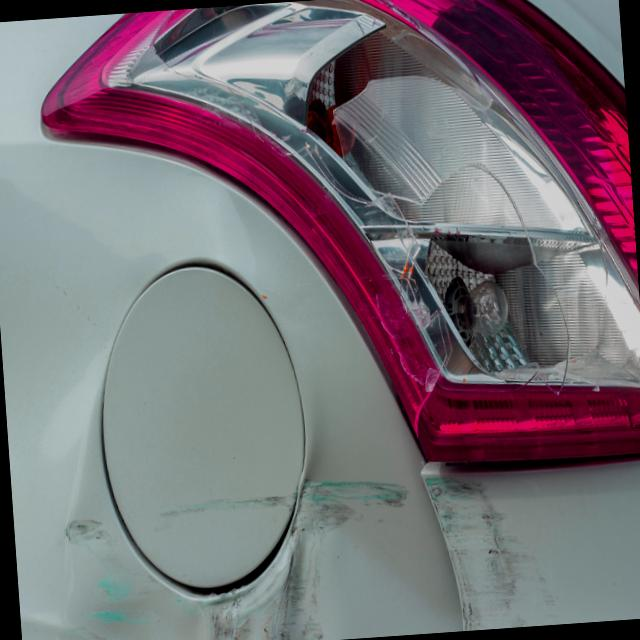Cabossage: (270, 447, 463, 640)
Rayure: (45, 455, 589, 640)
